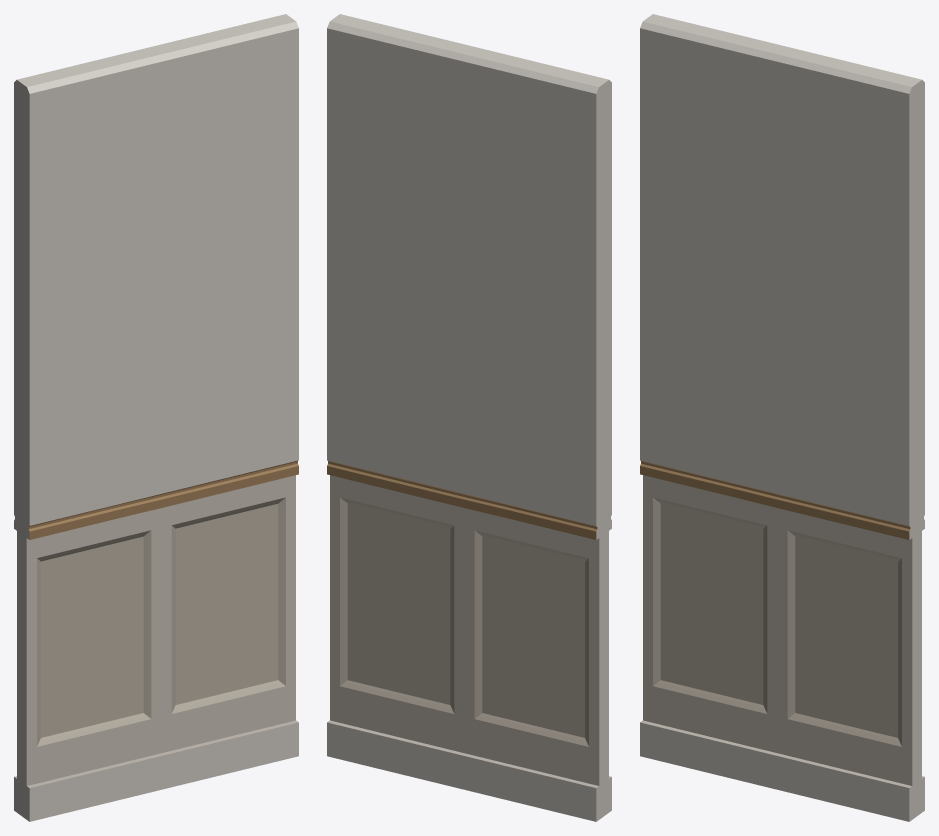
Rendered from wall-segment.glb.
3 renders of one model, left to right at view 1: azimuth 30°, elevation 25°; view 2: azimuth 150°, elevation 25°; view 3: azimuth 330°, elevation 25°, orthographic.
Parts seen in each view (by area): view 1: plain-wall-segment; view 2: plain-wall-segment; view 3: plain-wall-segment.
Part boxes in pixels (x1,y1,x2,y2): plain-wall-segment: [14, 14, 298, 821]; plain-wall-segment: [327, 14, 611, 821]; plain-wall-segment: [640, 14, 924, 821].
Bounding box in the file's own units: 1 × 2.6 × 0.1.
